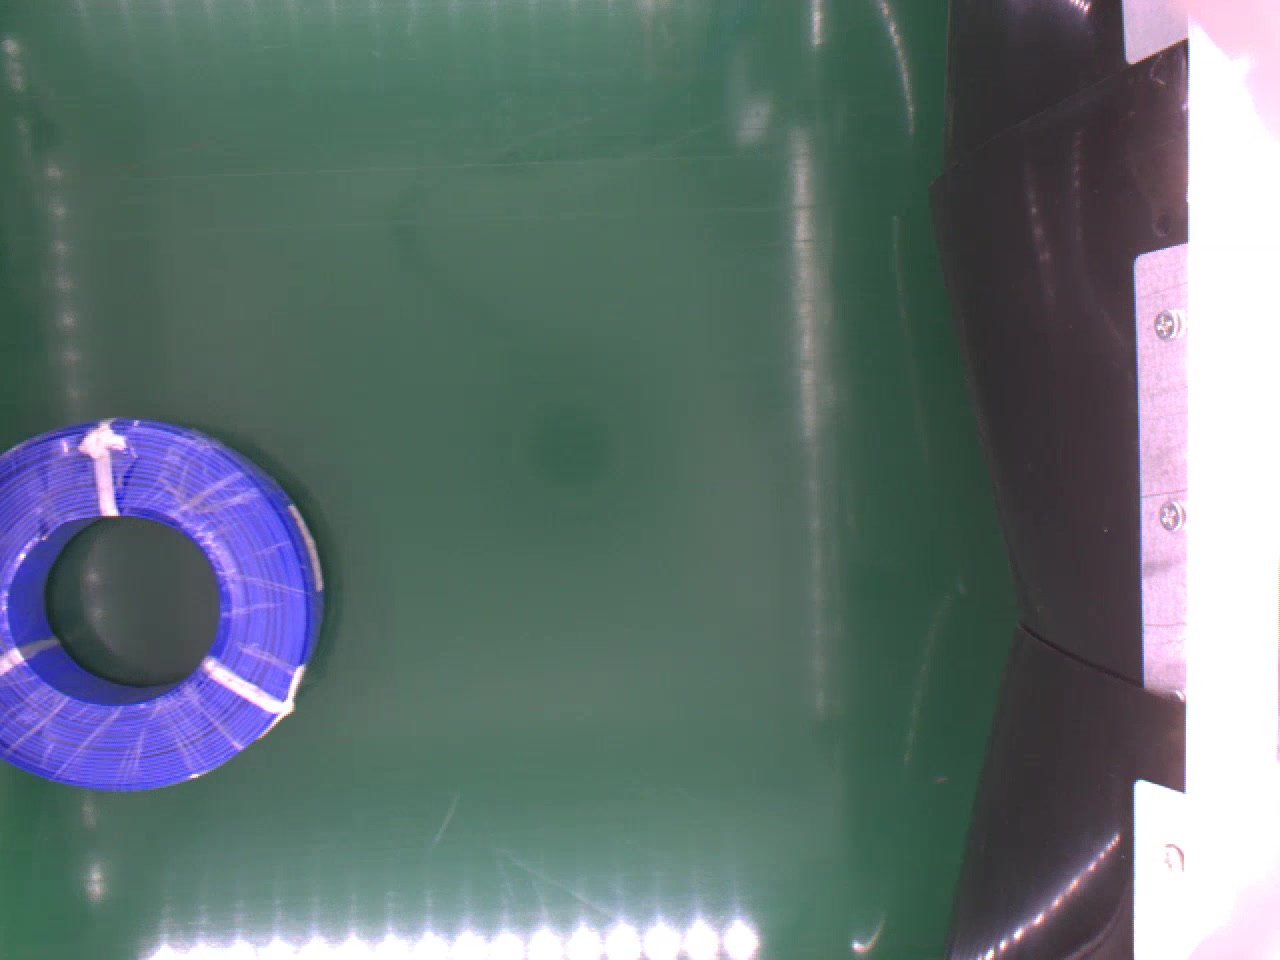blue: (0, 411, 326, 784)
